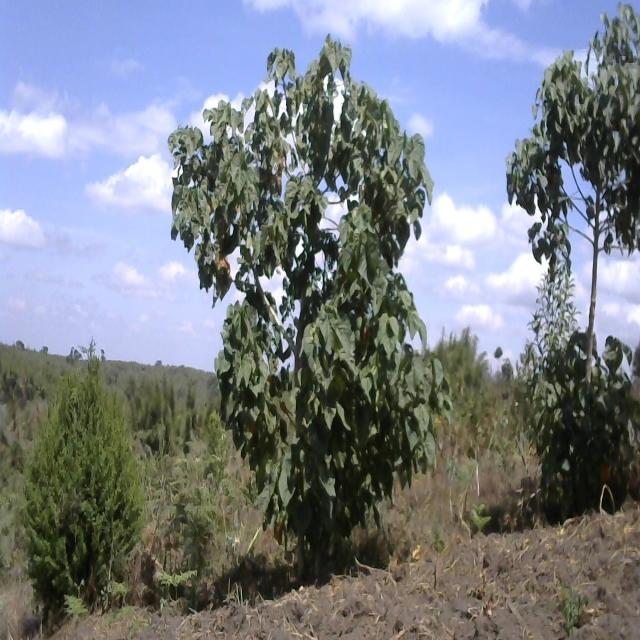cedrus: (20, 343, 176, 614)
other: (173, 57, 457, 589), (509, 25, 640, 494)
